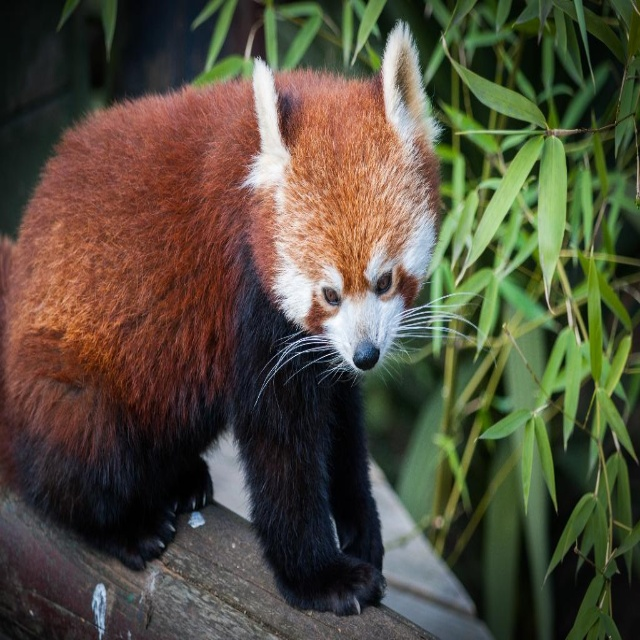Red panda: (0, 14, 495, 617)
